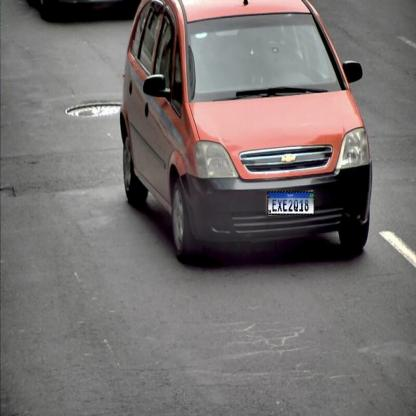PlacaM: (267, 191, 315, 215)
